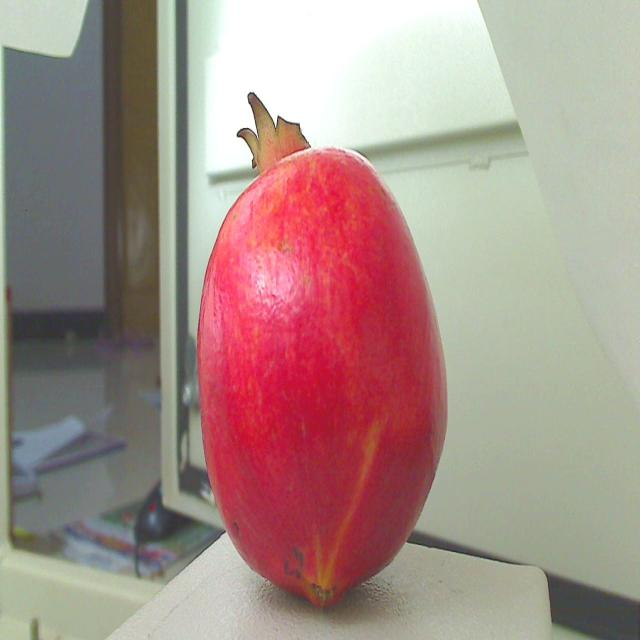pomegranate: (184, 51, 458, 610)
